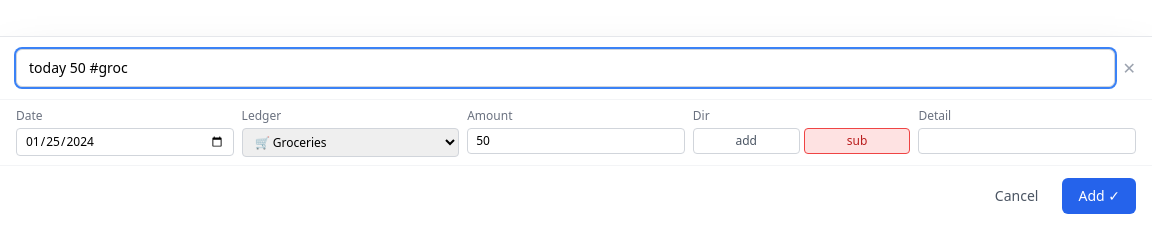
ParserBar › shows error message when submit fails
What coordinates should you click on to do the following:
click the button "Add ✓"
I would click on:
 (1099, 196)
Its box is [1062, 178, 1136, 214].
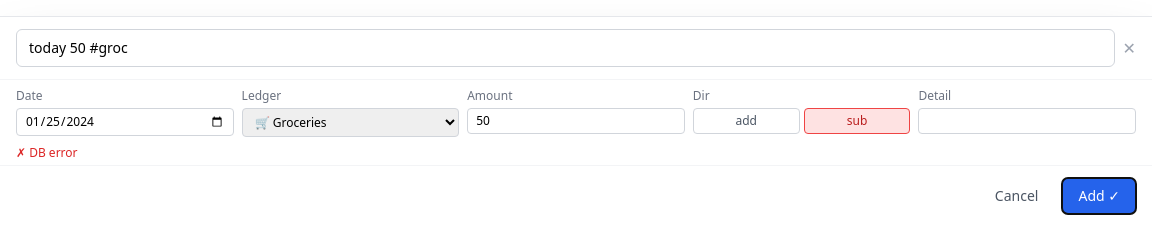
Check: the text "✗ DB error" is shown, box [16, 144, 78, 161]
